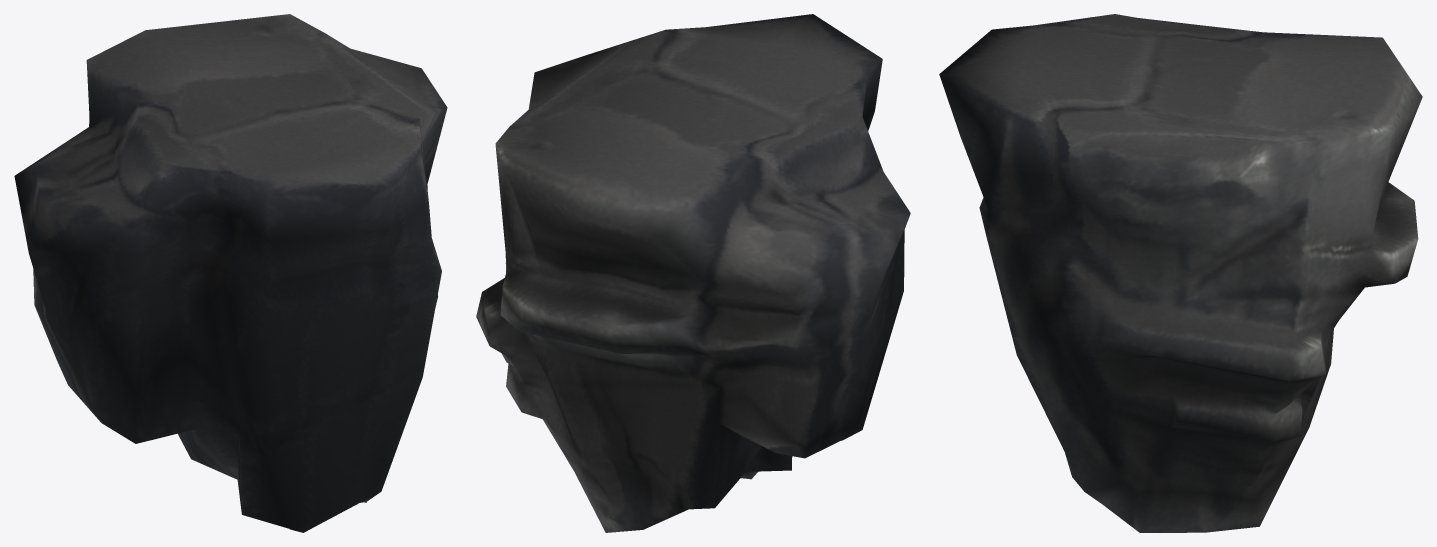
File: stone.fbx
3 views of the same model, side by side, from view 1: azimuth 30°, elevation 25°; view 2: azimuth 150°, elevation 25°; view 3: azimuth 270°, elevation 25° (orthographic). The views are drawn at different scales.
Visible parts, largest first — view 1: stone; view 2: stone; view 3: stone.
Part boxes in pixels (bbox=[...]): stone: bbox=[14, 14, 447, 532]; stone: bbox=[476, 14, 910, 532]; stone: bbox=[939, 14, 1422, 532].
Size of the model in its own units: 1.27 by 1.36 by 1.38.
1 material, 1 textured.
